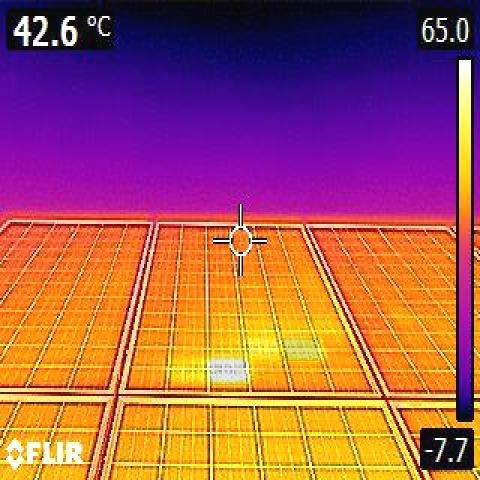fault: (212, 356, 245, 385), (283, 338, 318, 361)
